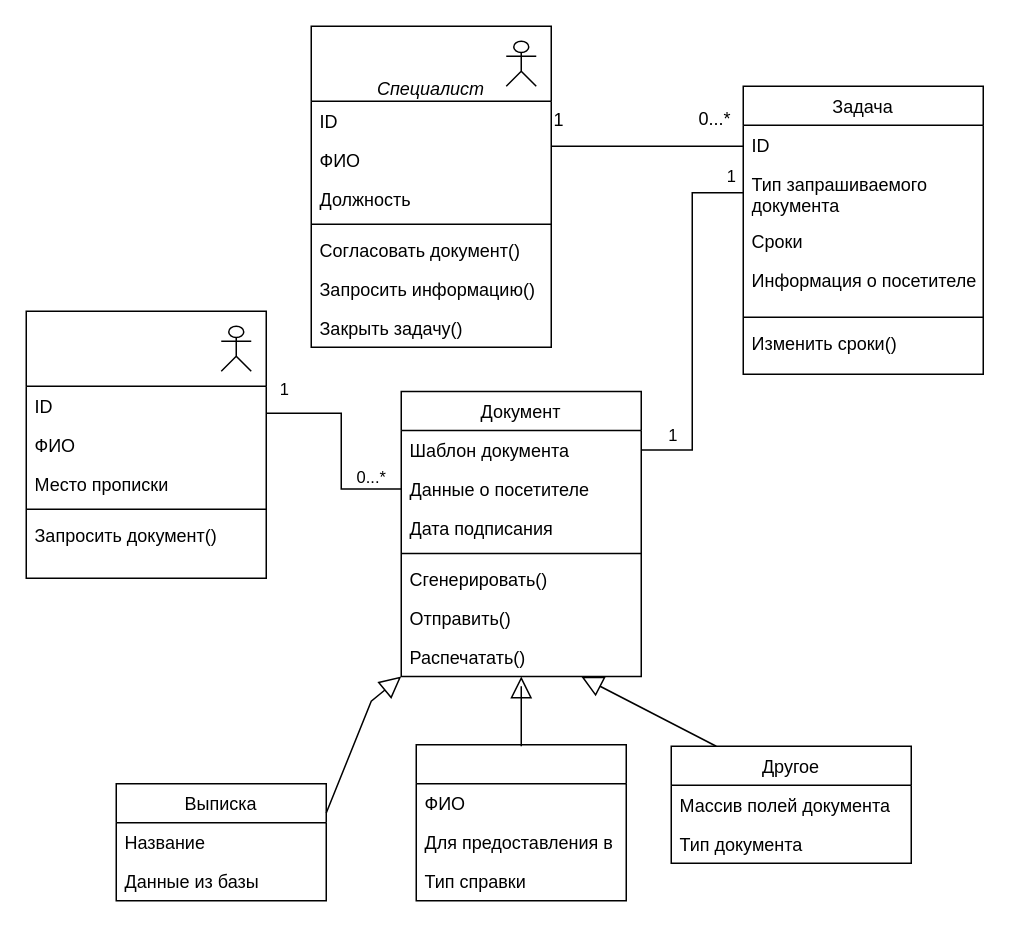
Image size: 1010x932. Some labels were removed from this diagram. The shapes that lost their labels are listed below. From the top down, each one's box as (x1, y1, x2, y2) in pixels, then its label:
(25, 310, 266, 578): Посетититель
(415, 743, 626, 901): Справка
